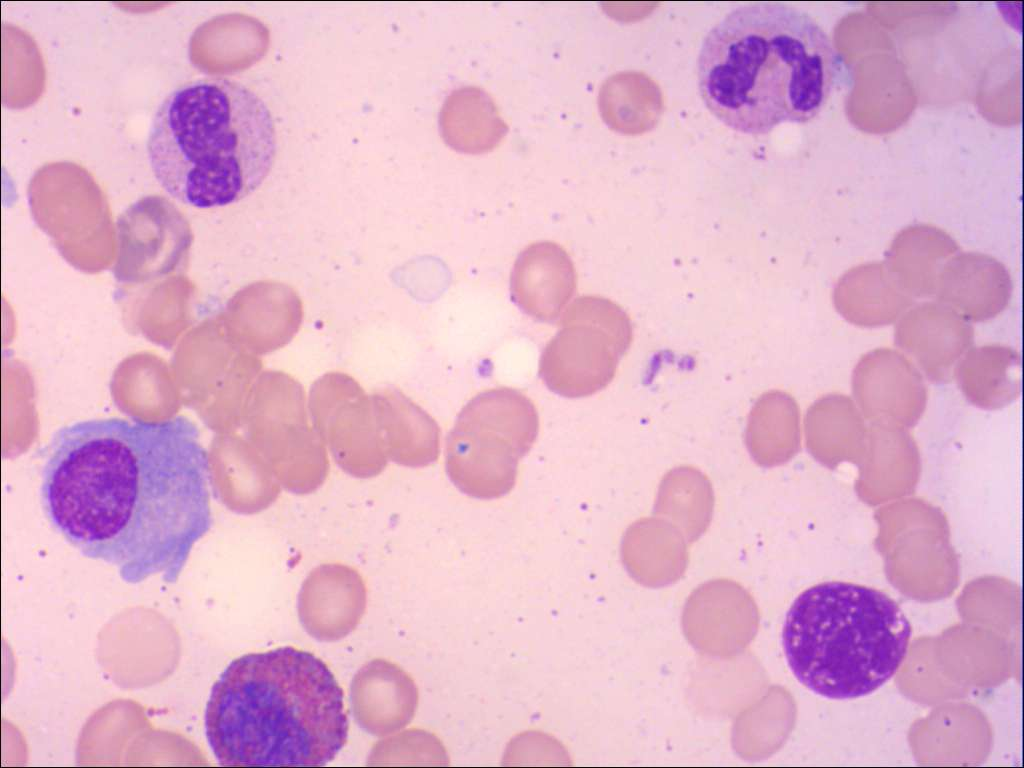4: (145, 72, 278, 211)
51: (36, 410, 217, 588)
6: (693, 1, 840, 139)
x: (202, 642, 351, 768), (778, 578, 915, 703)
